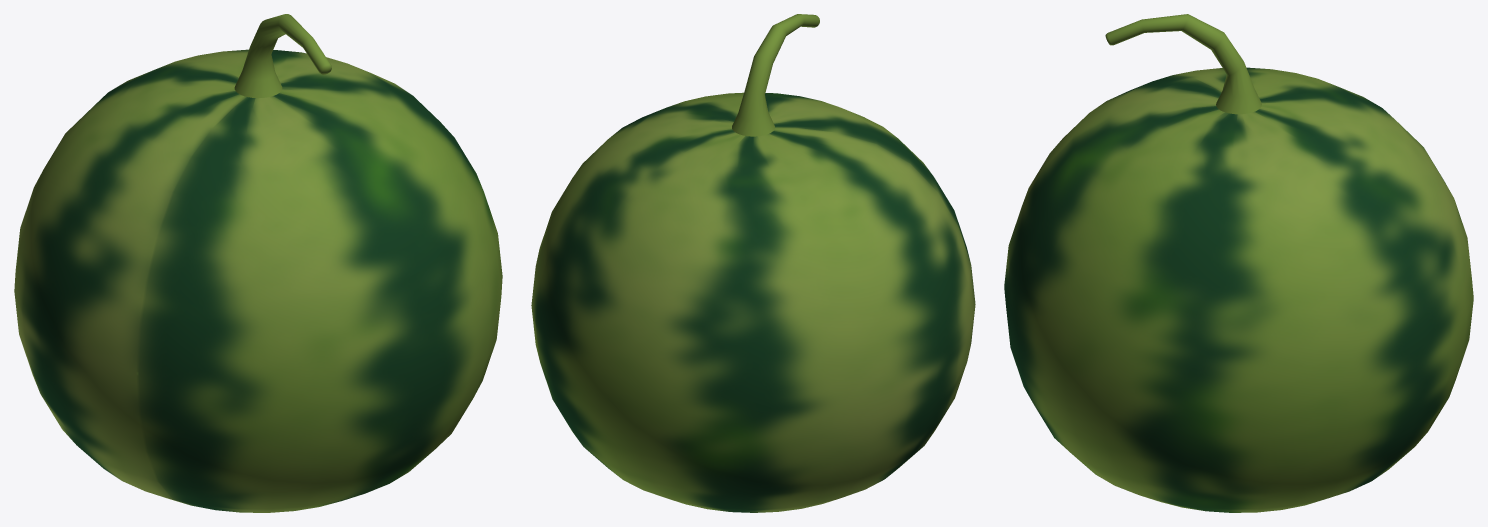
Rendered from Watermelon.fbx.
The picture shows the model from 3 angles, left to right: view 1: azimuth 30°, elevation 25°; view 2: azimuth 150°, elevation 25°; view 3: azimuth 270°, elevation 25°; orthographic projection. The views are drawn at different scales.
Parts seen in each view (by area): view 1: Watermelon; view 2: Watermelon; view 3: Watermelon.
Boxes of the visible parts, bbox=[...] form: Watermelon: bbox=[14, 14, 502, 512]; Watermelon: bbox=[531, 14, 975, 512]; Watermelon: bbox=[1004, 14, 1473, 512].
Size of the model in its own units: 561 by 605 by 561.
1 material, 1 textured.
